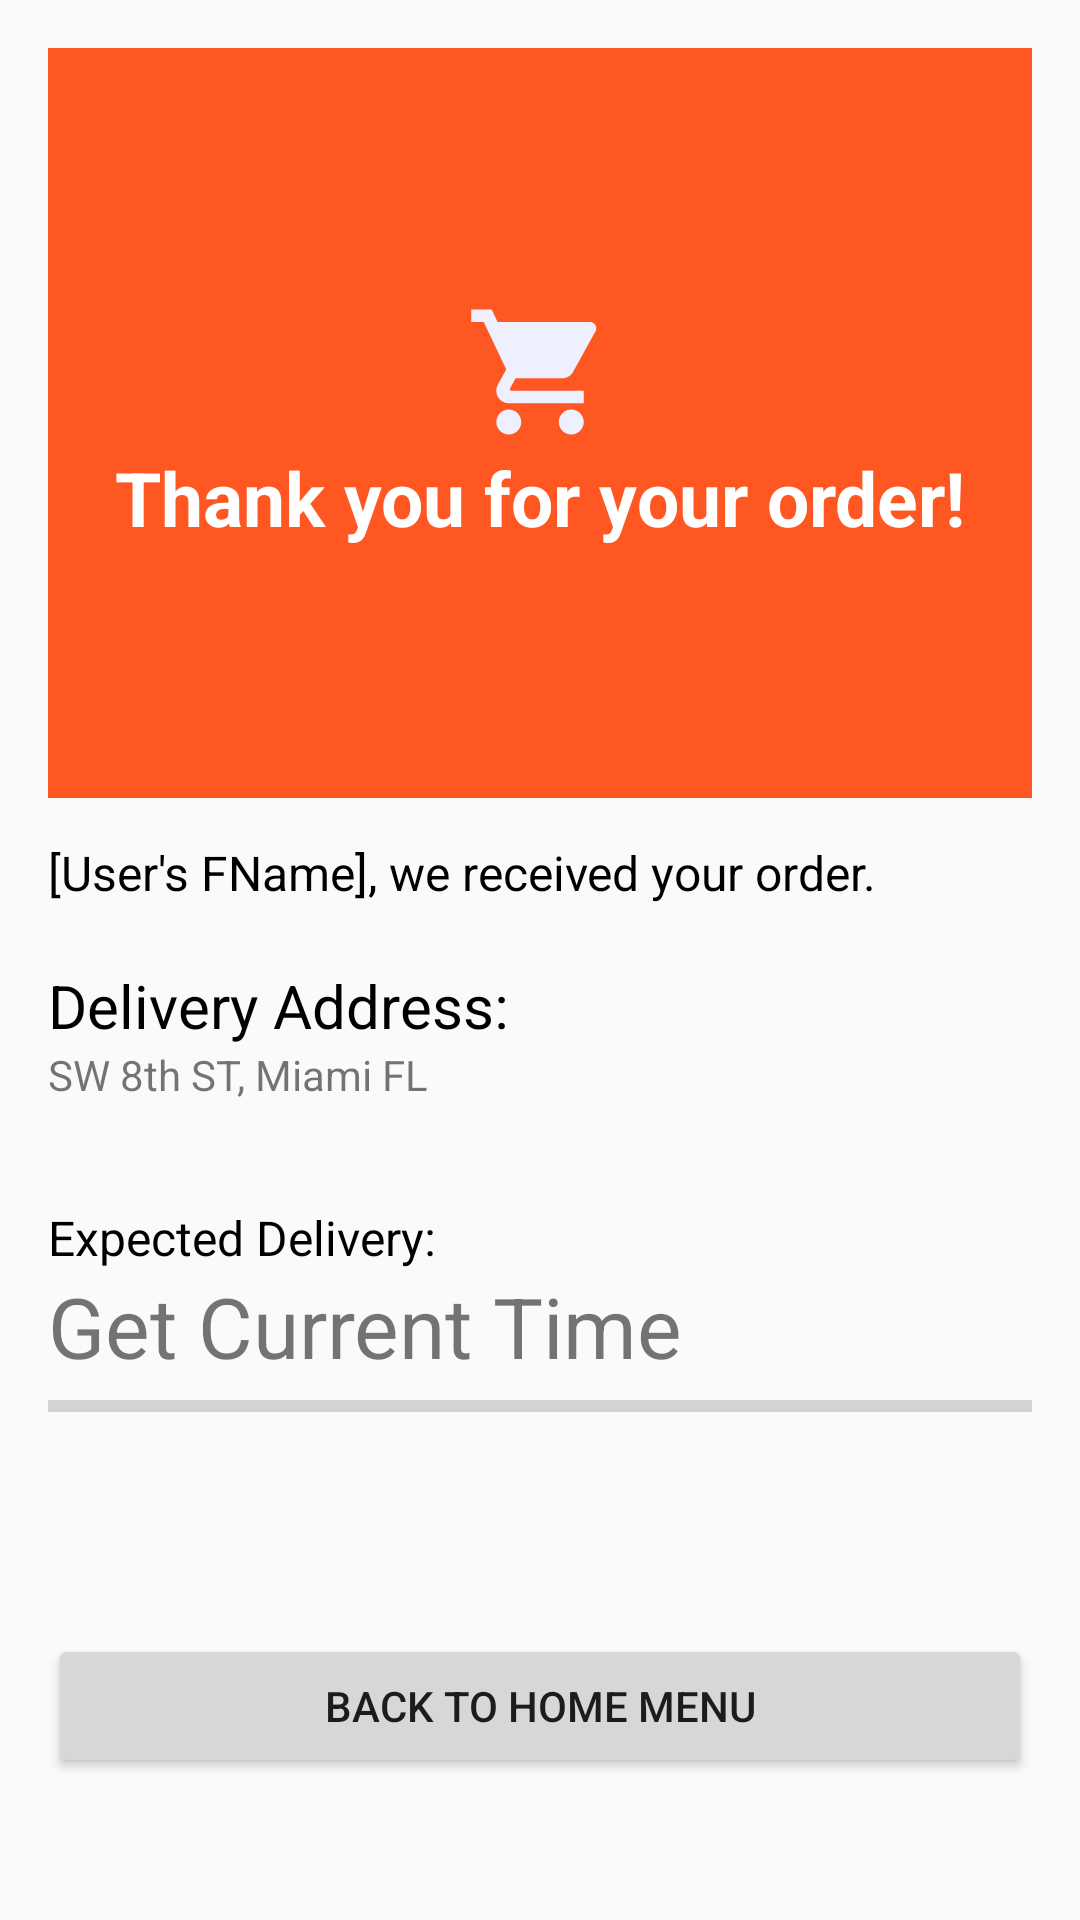

Icon click points for this 1080x1920 phone screenshot, format [x,y]:
shopping cart: [534,372]
